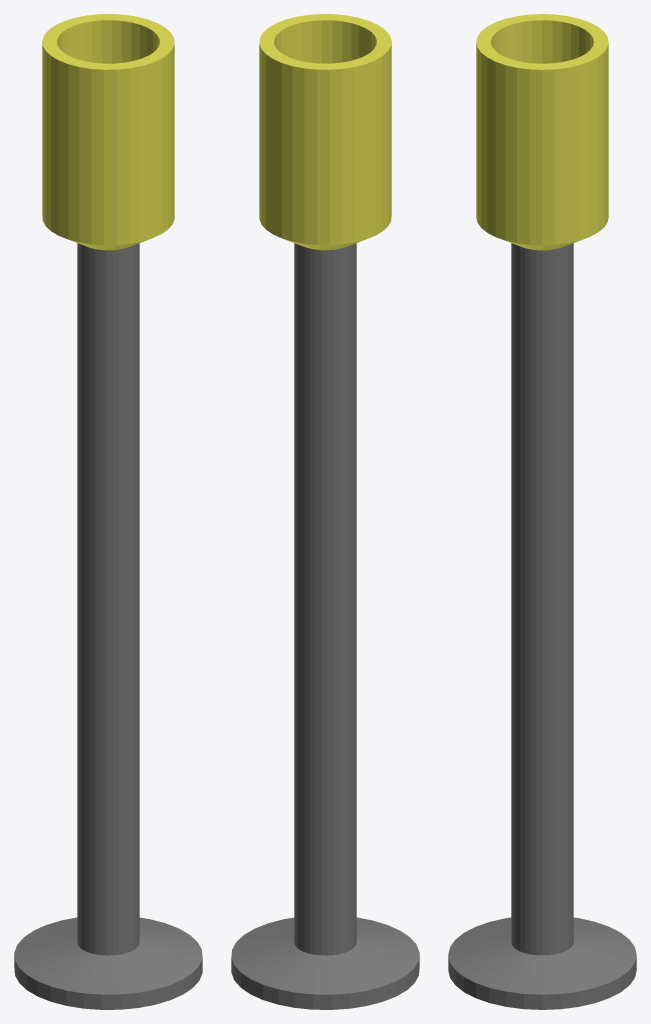
Rendered from lamp.fbx.
3 renders of one model, left to right at view 1: azimuth 30°, elevation 25°; view 2: azimuth 150°, elevation 25°; view 3: azimuth 270°, elevation 25°, orthographic.
Parts seen in each view (by area): view 1: Cylinder.001; view 2: Cylinder.001; view 3: Cylinder.001.
Part boxes in pixels (x1=…): Cylinder.001: x1=14, y1=14, x2=202, y2=1009; Cylinder.001: x1=231, y1=14, x2=419, y2=1009; Cylinder.001: x1=448, y1=14, x2=636, y2=1009.
Size of the model in its own units: 624 by 3392 by 624.
